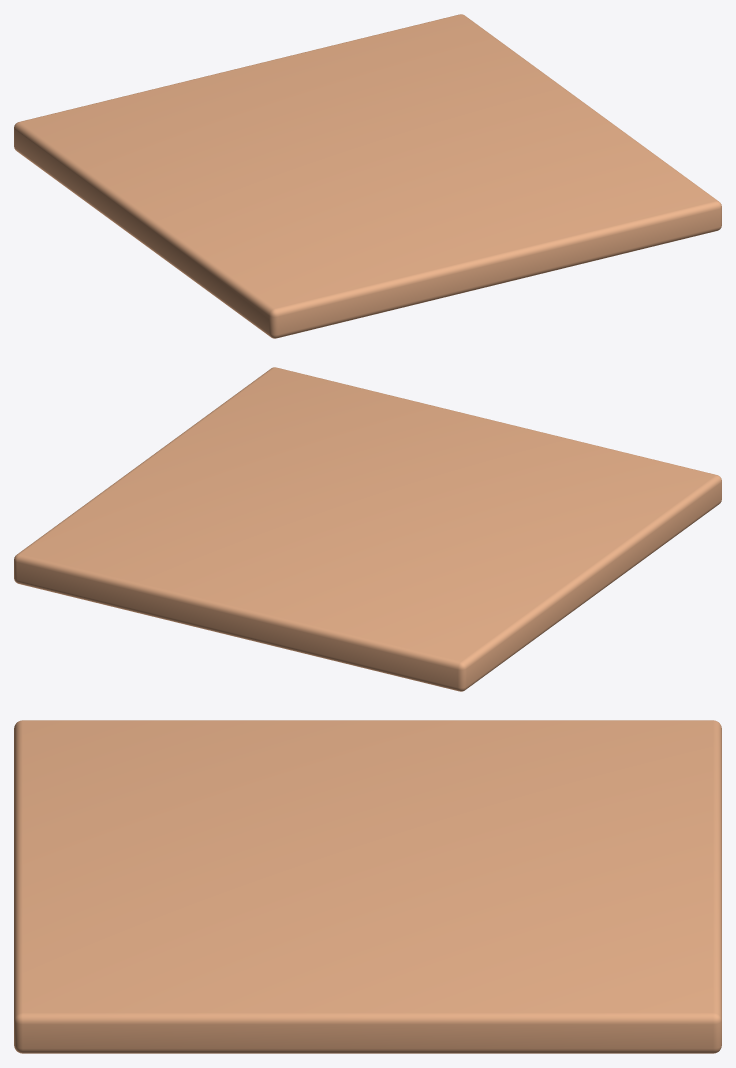
The model's file is Floor.fbx.
3 views of the same model, one above another, from view 1: azimuth 30°, elevation 25°; view 2: azimuth 150°, elevation 25°; view 3: azimuth 270°, elevation 25° (orthographic). The views are drawn at different scales.
Visible parts, largest first — view 1: Cube; view 2: Cube; view 3: Cube.
Part boxes in pixels (x1=…): Cube: x1=14, y1=14, x2=721, y2=338; Cube: x1=14, y1=367, x2=721, y2=691; Cube: x1=14, y1=720, x2=721, y2=1053.
Bounding box in the file's own units: 16 × 1 × 16.
